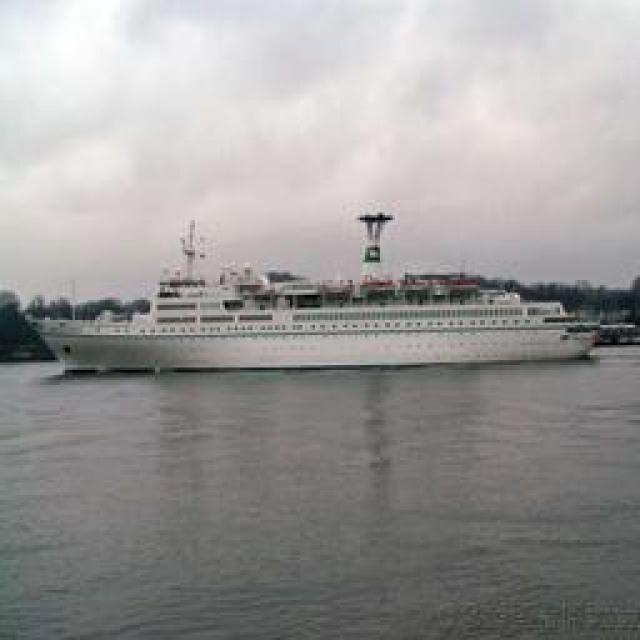Ship: (40, 234, 593, 374)
